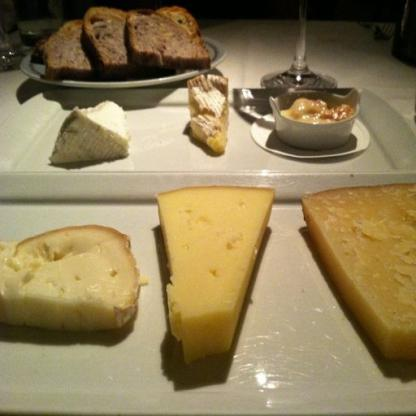cheese: (150, 184, 274, 361), (300, 174, 415, 360), (3, 231, 132, 338)
